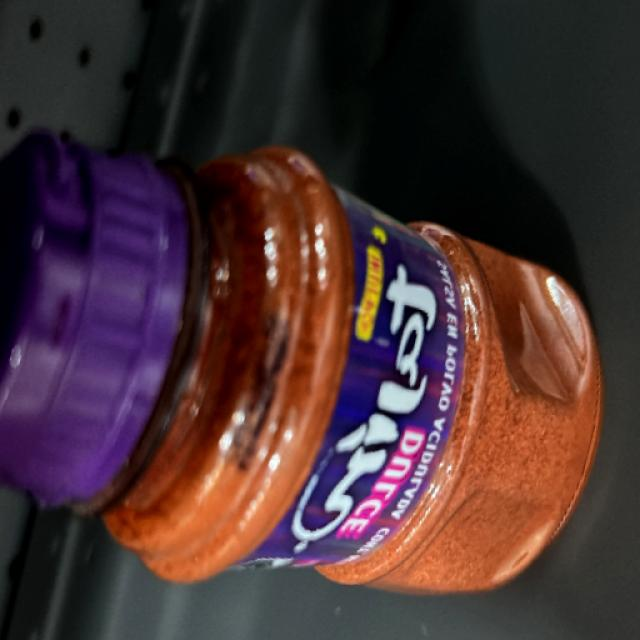tajinDulce: (31, 159, 591, 605)
